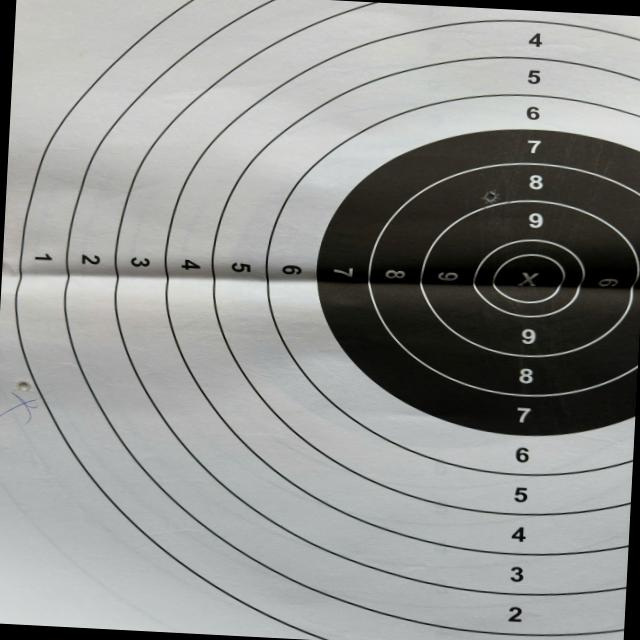bullet: (483, 190, 499, 204), (17, 381, 30, 391)
target: (0, 0, 640, 640)
